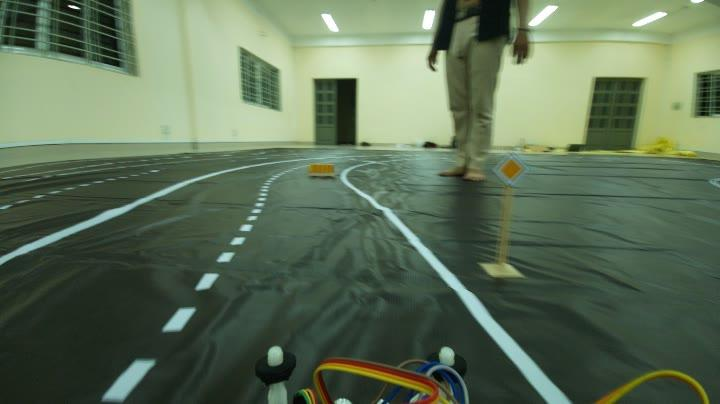priority: (491, 150, 533, 189)
roadblock: (306, 158, 344, 184)
